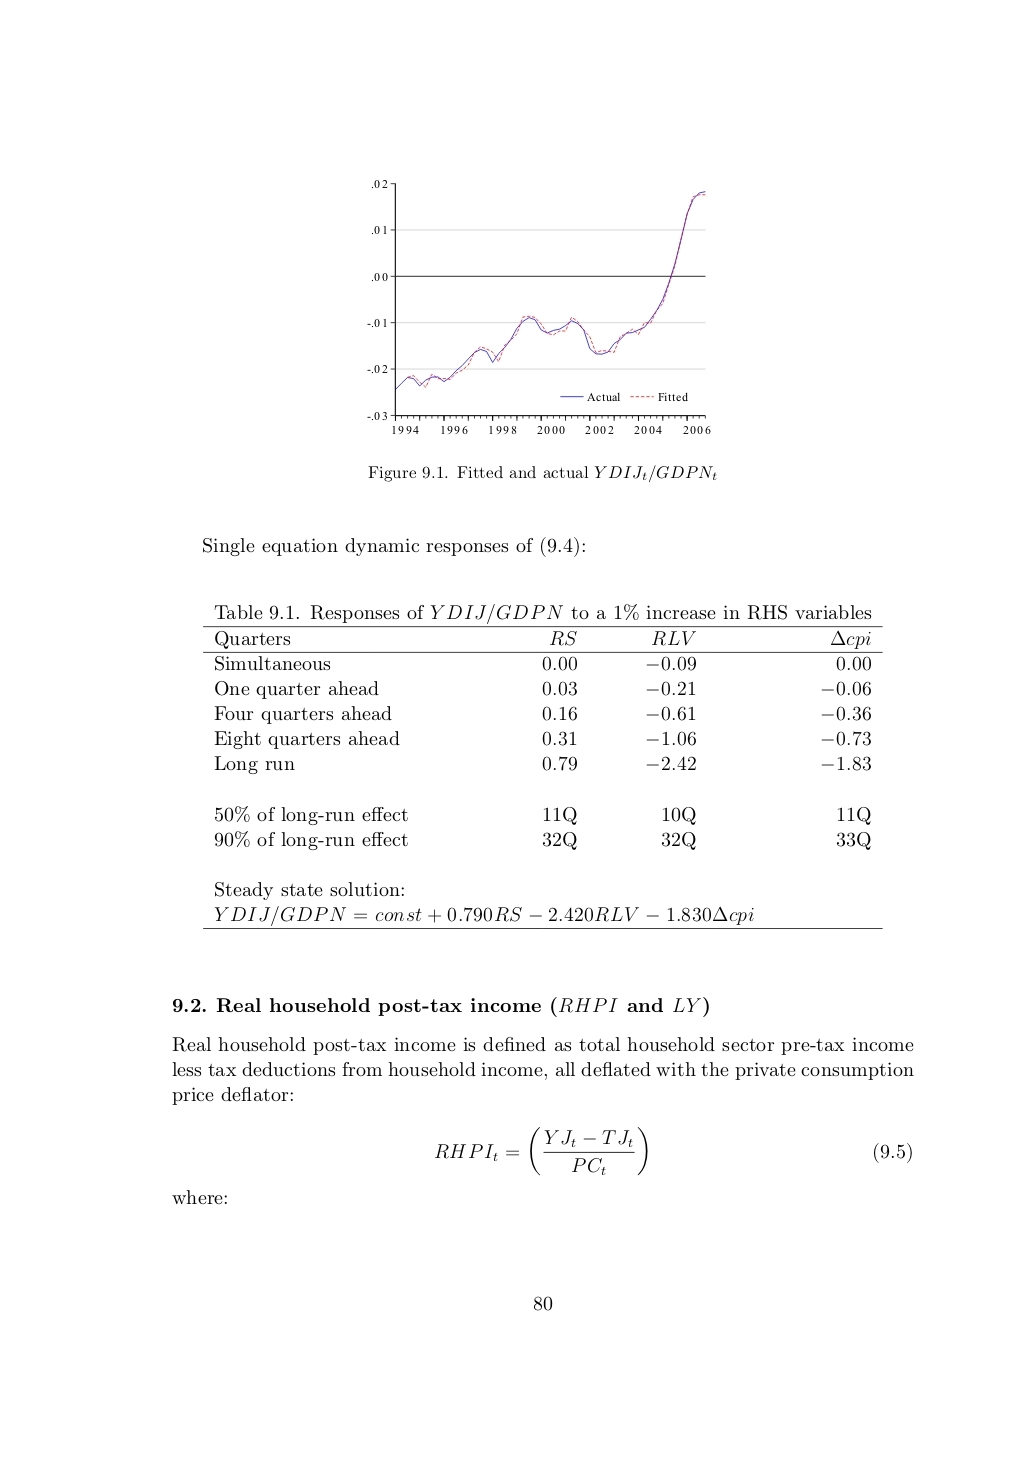Table: (203, 604, 882, 928)
figure: (367, 180, 710, 433)
formula: (434, 1126, 911, 1175)
